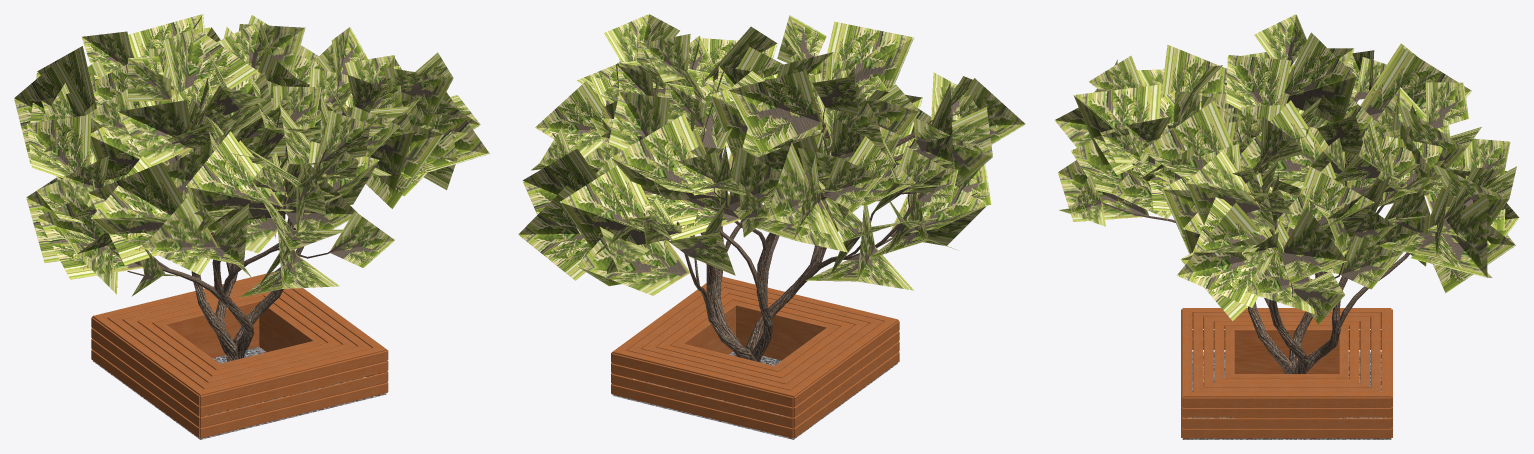
File: banco_tree.glb
3 views of the same model, side by side, from view 1: azimuth 30°, elevation 25°; view 2: azimuth 150°, elevation 25°; view 3: azimuth 270°, elevation 25° (orthographic). The views are drawn at different scales.
Visible parts, largest first — view 1: G-Object.030, G-Object.022, G-Object.021, G-Object.031, G-Object.023, G-Object.020, G-Object.025, G-Object.026, G-Object.010, G-Object.018, G-Object.028; view 2: G-Object.030, G-Object.027, G-Object.031, G-Object.021, G-Object.026, G-Object.020, G-Object.023, G-Object.025, G-Object.019, G-Object.018, G-Object.028; view 3: G-Object.030, G-Object.024, G-Object.025, G-Object.031, G-Object.023, G-Object.026, G-Object.014, G-Object.020, G-Object.028.
Boxes of the visible parts, box(x1,y1,x2,y2) form: G-Object.030: box(14, 14, 489, 297); G-Object.022: box(200, 350, 387, 438); G-Object.021: box(91, 317, 200, 438); G-Object.031: box(80, 75, 376, 361); G-Object.023: box(200, 341, 386, 395); G-Object.020: box(92, 316, 219, 395); G-Object.025: box(259, 288, 385, 348); G-Object.026: box(93, 271, 273, 325); G-Object.010: box(168, 303, 259, 357); G-Object.018: box(259, 309, 311, 351); G-Object.028: box(93, 346, 386, 439); G-Object.030: box(518, 14, 1025, 295); G-Object.027: box(611, 353, 793, 438); G-Object.031: box(552, 53, 977, 362); G-Object.021: box(793, 320, 899, 438); G-Object.026: box(612, 343, 793, 397); G-Object.020: box(775, 319, 898, 396); G-Object.023: box(722, 276, 896, 328); G-Object.025: box(613, 283, 735, 351); G-Object.019: box(736, 306, 824, 360); G-Object.018: box(685, 307, 735, 354); G-Object.028: box(612, 351, 897, 439); G-Object.030: box(1054, 14, 1519, 324); G-Object.024: box(1182, 397, 1391, 438); G-Object.025: box(1182, 374, 1391, 397); G-Object.031: box(1079, 94, 1444, 373); G-Object.023: box(1182, 308, 1234, 395); G-Object.026: box(1339, 308, 1391, 395); G-Object.014: box(1235, 331, 1338, 373); G-Object.020: box(1183, 308, 1390, 331); G-Object.028: box(1182, 351, 1391, 439).
Size of the model in its own units: 4.31 by 3.52 by 4.46.
Materials: 4 (4 with a texture image).
